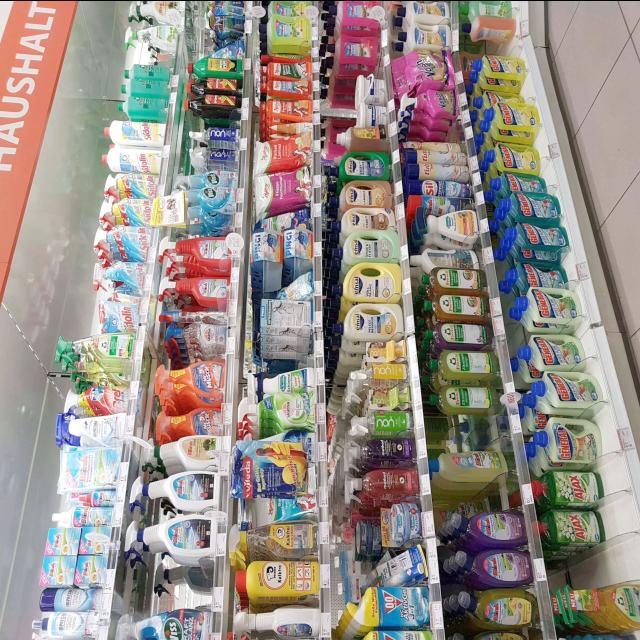empty_space: (555, 549, 640, 589), (148, 586, 224, 610), (453, 491, 519, 513), (601, 495, 637, 532), (473, 415, 511, 449), (260, 349, 316, 371), (476, 35, 522, 53), (598, 461, 626, 489), (596, 412, 614, 452), (562, 254, 578, 282)
